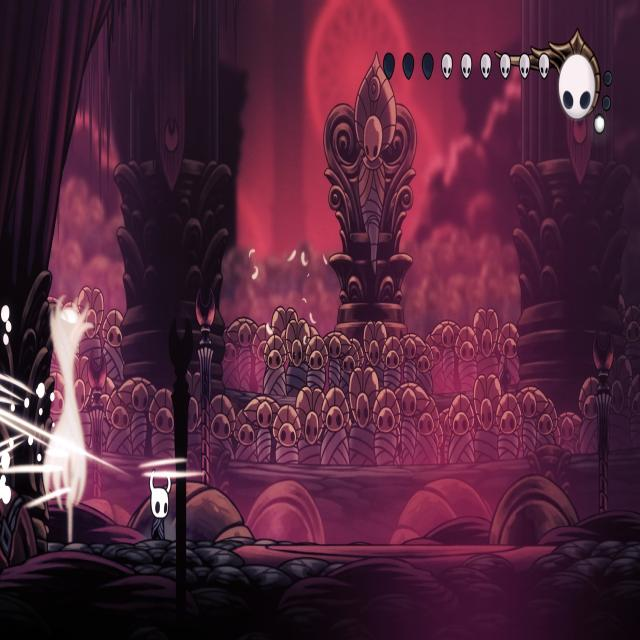Grimm: (43, 303, 87, 543)
Player: (144, 462, 173, 544)
